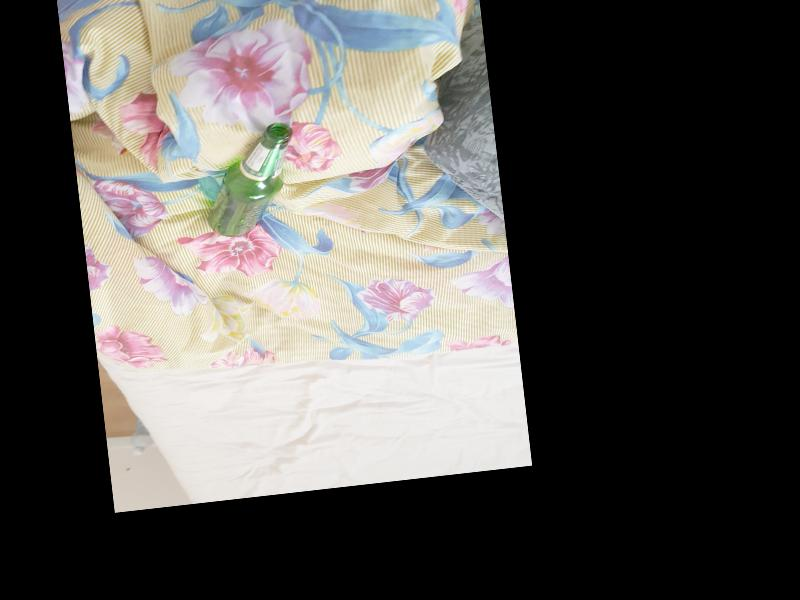Beer: (197, 120, 301, 238)
